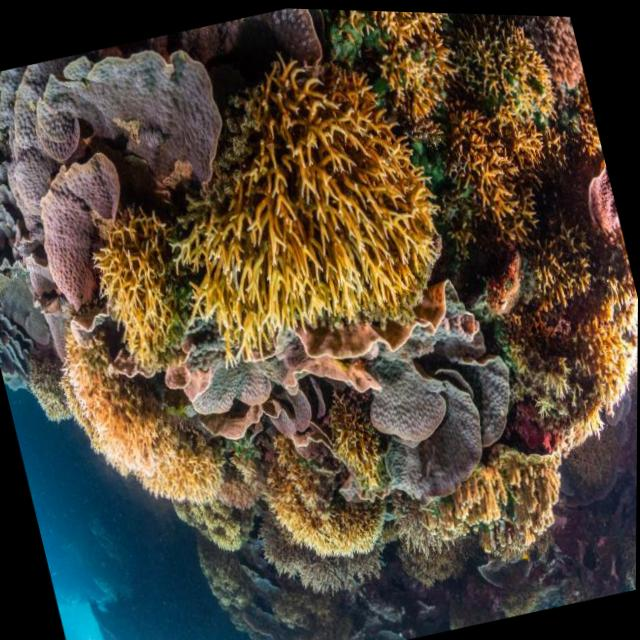Healthy Coral: (158, 29, 470, 355), (0, 13, 287, 320), (52, 309, 240, 525), (351, 314, 544, 505), (518, 237, 639, 468), (380, 440, 581, 578), (442, 10, 575, 147), (346, 8, 475, 124), (435, 80, 538, 224), (267, 437, 373, 572), (527, 12, 598, 136), (576, 147, 624, 240), (524, 304, 569, 345)
